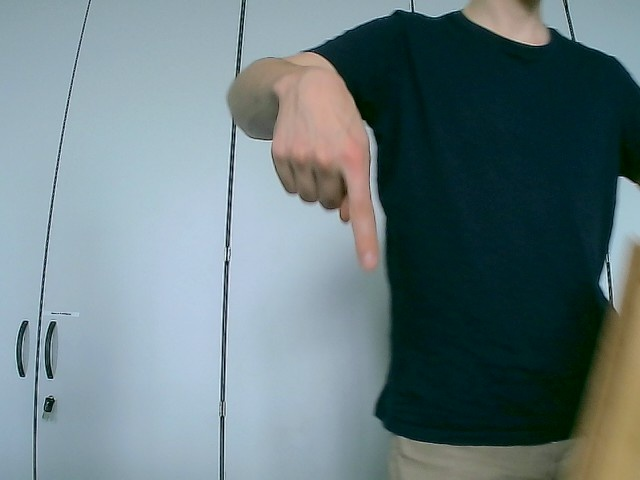down: (269, 64, 381, 272)
